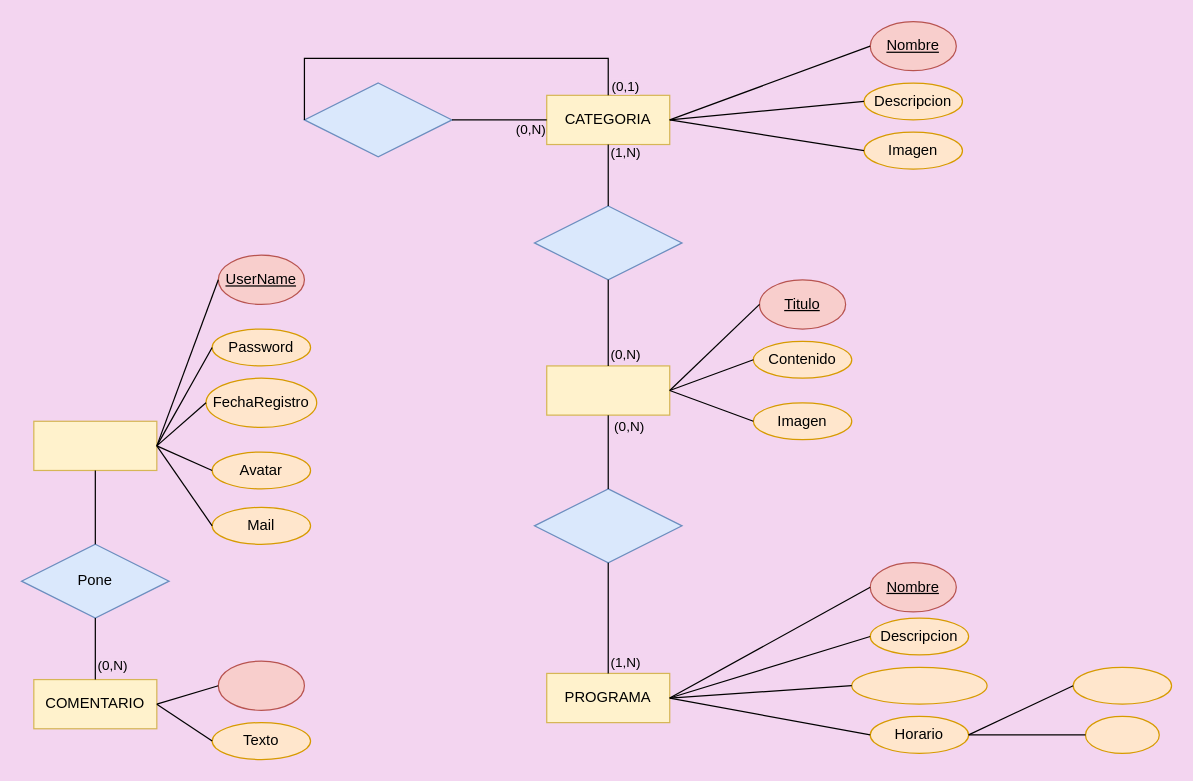
The diagram is 1193 pixels wide and 781 high, and some of its shapes have lost their labels. Each missing label, with the centre of its shape:
"Divide" goes at point 607,242.
"Escribe" goes at point 607,525.
"HoraFin" goes at point 1121,734.
"HoraInicio" goes at point 1122,685.
"ID" goes at point 260,685.
"ListaConductores" goes at point 919,685.
"NOTA" goes at point 608,390.
"Pertenece" goes at point 377,119.
"USUARIO" goes at point 95,445.
